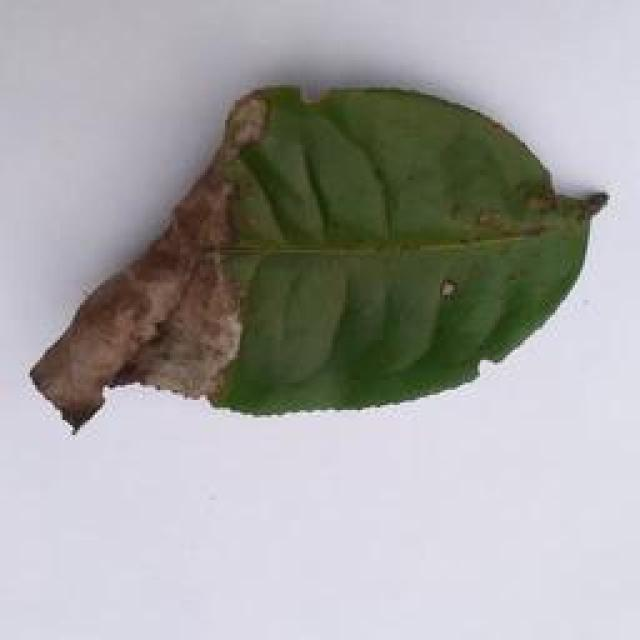Brown Blight: (19, 79, 606, 447)
